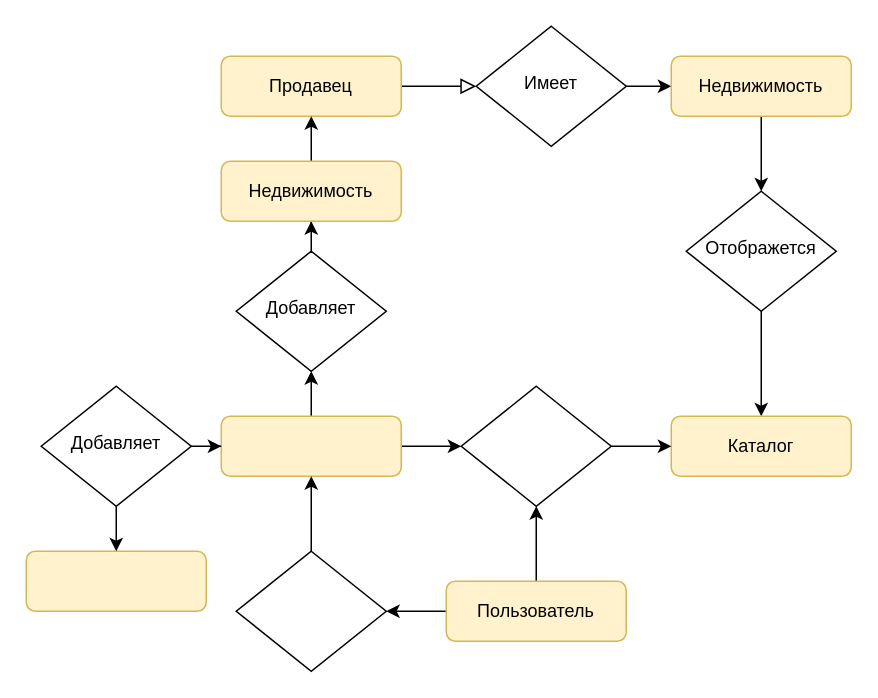
The diagram is 878 pixels wide and 698 high, and some of its shapes have lost their labels. Here are the shapes that lost their labels. From the top down, the centre of each, then its label:
the point at 310,445: Клиент
the point at 535,445: Просмотр
the point at 115,580: Должность
the point at 310,610: Создать аккаунт
